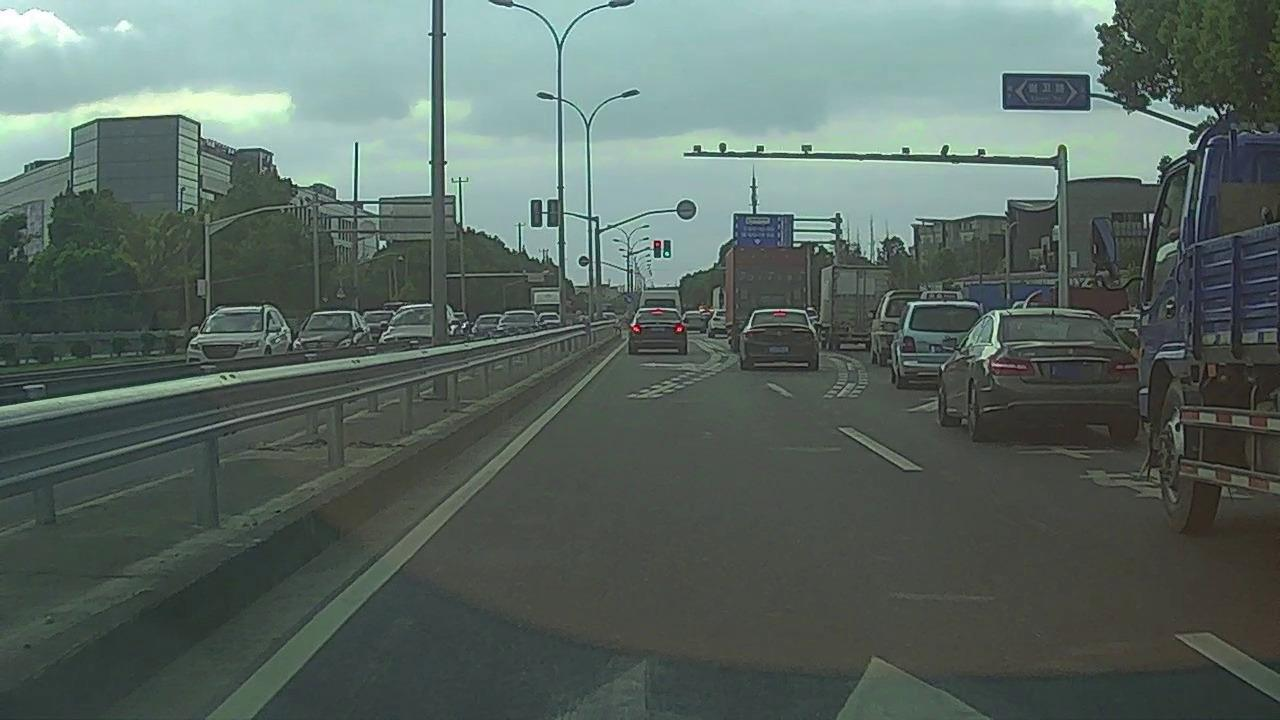traffic_light: (664, 239, 671, 258), (654, 240, 661, 258)
